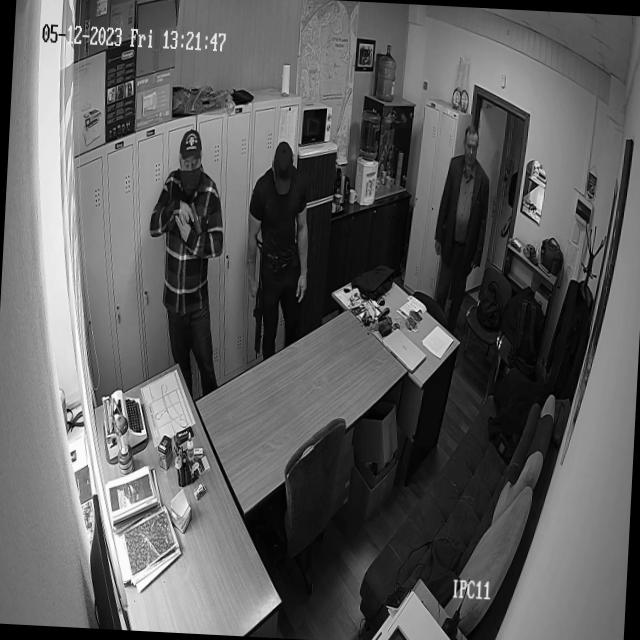gun: (248, 227, 276, 357), (185, 193, 204, 240)
person with a gun: (146, 116, 237, 394), (236, 128, 324, 354)
